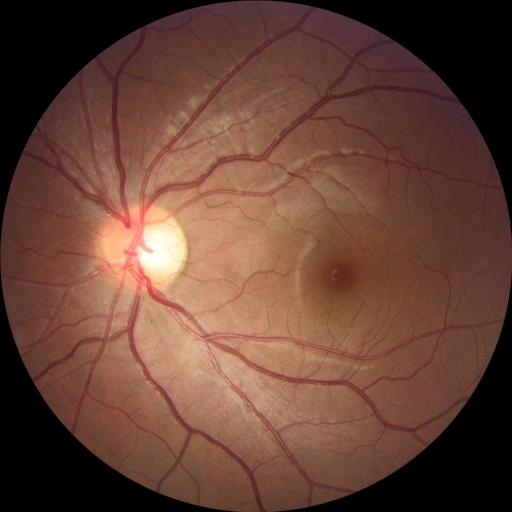Optic Cup: (133, 226, 175, 271)
Optic Disc: (95, 203, 187, 293)
